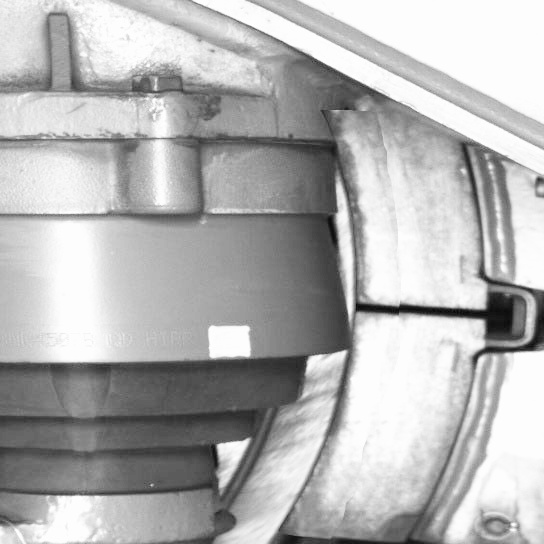ClosedKnifeSwitch: (264, 138, 517, 541)
